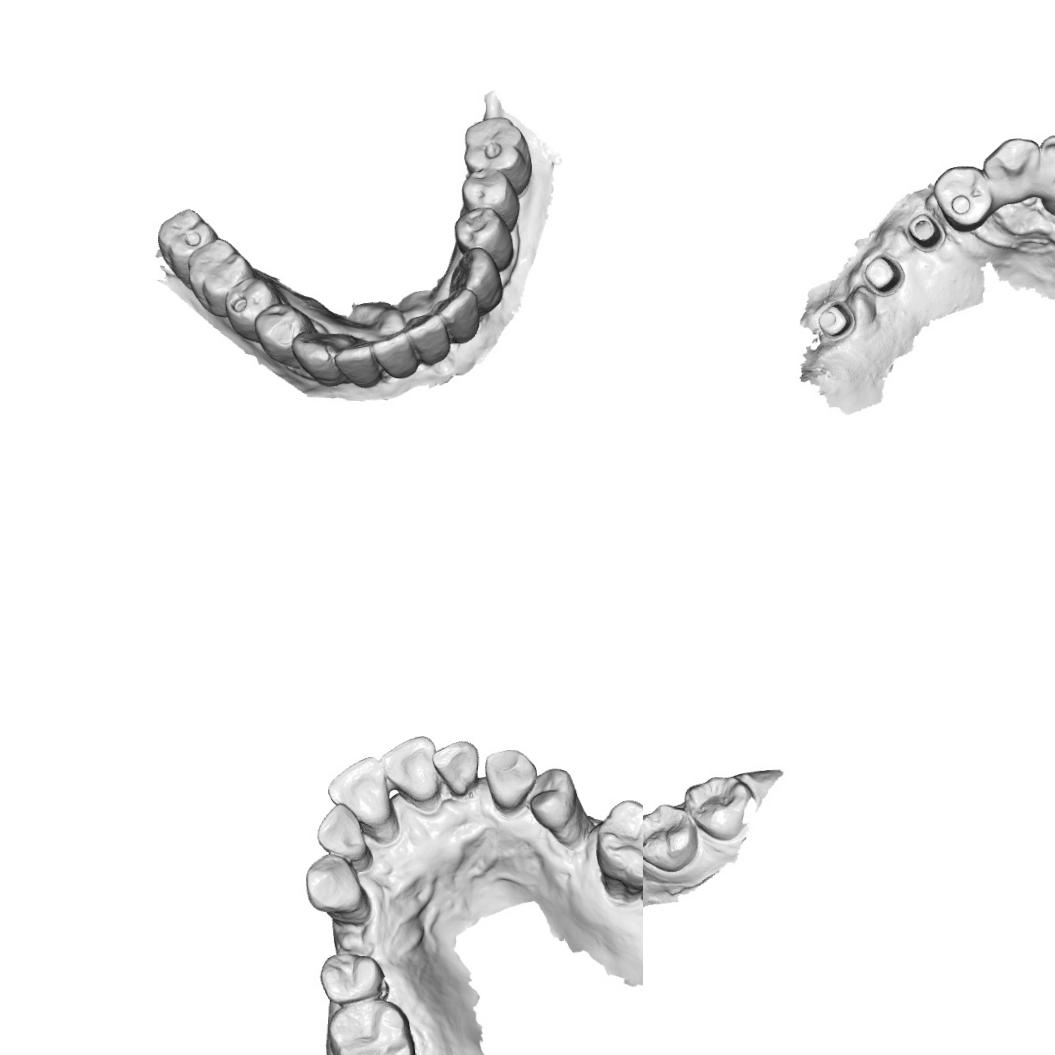abutment: (858, 250, 908, 298), (816, 300, 858, 340), (904, 211, 943, 254)
canine: (302, 851, 374, 925), (980, 133, 1044, 210), (448, 244, 504, 314), (482, 747, 538, 812), (292, 329, 346, 388)
incisor: (376, 732, 442, 812), (325, 754, 394, 826), (314, 802, 375, 872), (430, 739, 481, 796), (434, 290, 484, 344), (370, 329, 418, 380), (408, 312, 452, 366), (336, 343, 380, 389), (1037, 132, 1055, 205)
molar: (184, 234, 256, 318), (460, 114, 534, 195), (323, 995, 420, 1055), (153, 204, 218, 288), (592, 797, 643, 903), (682, 774, 756, 842), (643, 801, 700, 874)
premolar: (526, 766, 594, 848), (928, 161, 994, 236), (449, 206, 518, 272), (224, 272, 284, 346), (318, 951, 391, 1008), (252, 302, 310, 368), (461, 165, 520, 229)
